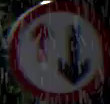Two way: (12, 4, 102, 95)
